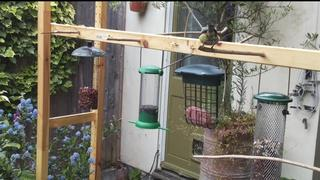blue tit: (199, 25, 220, 52)
